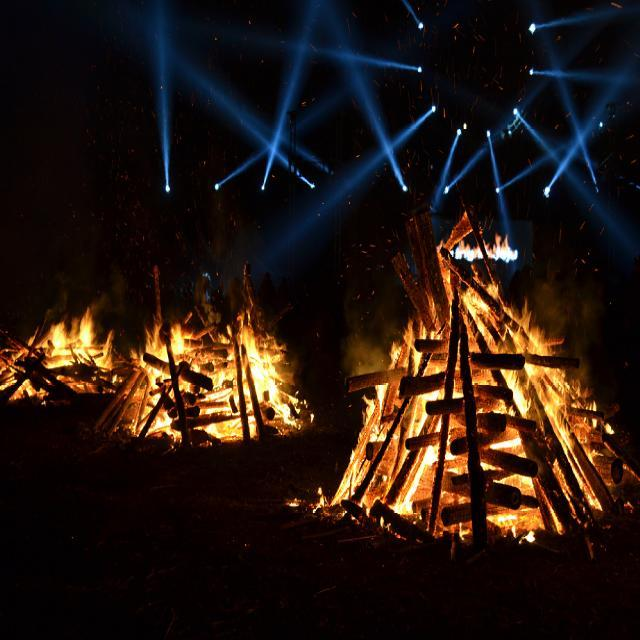Fire: (522, 360, 574, 430), (248, 328, 280, 399), (45, 316, 94, 358), (459, 239, 514, 262), (146, 328, 186, 358)
